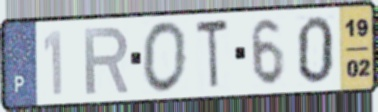0: (295, 14, 337, 86)
1: (42, 28, 64, 97)
6: (249, 16, 287, 89)
O: (140, 20, 189, 95)
R: (82, 25, 131, 98)
T: (194, 16, 232, 93)
